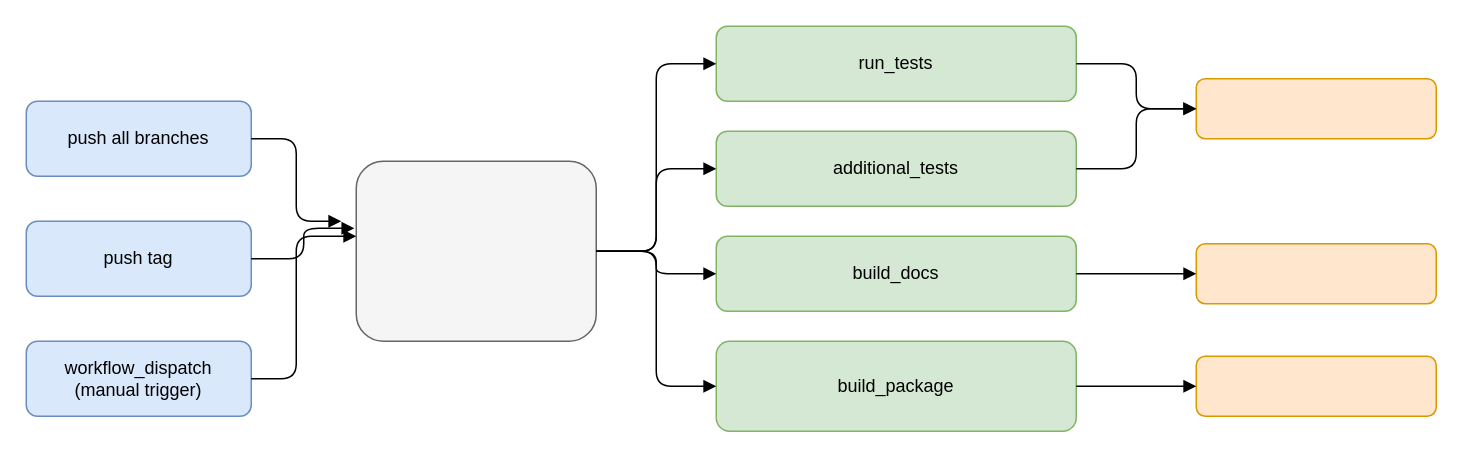
This 1463x458 diagram has some shape labels left out. Each missing label, with the centre of its shape:
"build_docs.sh" belongs at (1315,273).
"build_package.sh" belongs at (1315,385).
"main.yaml" belongs at (475,250).
"run_tests.sh" belongs at (1315,108).
